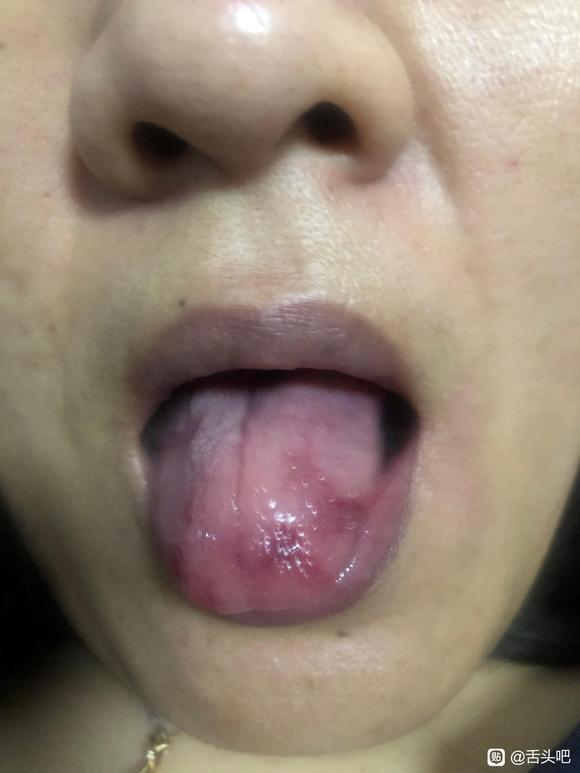baitaishe: (155, 373, 386, 614)
chihenshe: (162, 544, 224, 614)
hongshe: (155, 373, 386, 614)
liewenshe: (233, 386, 255, 498)
